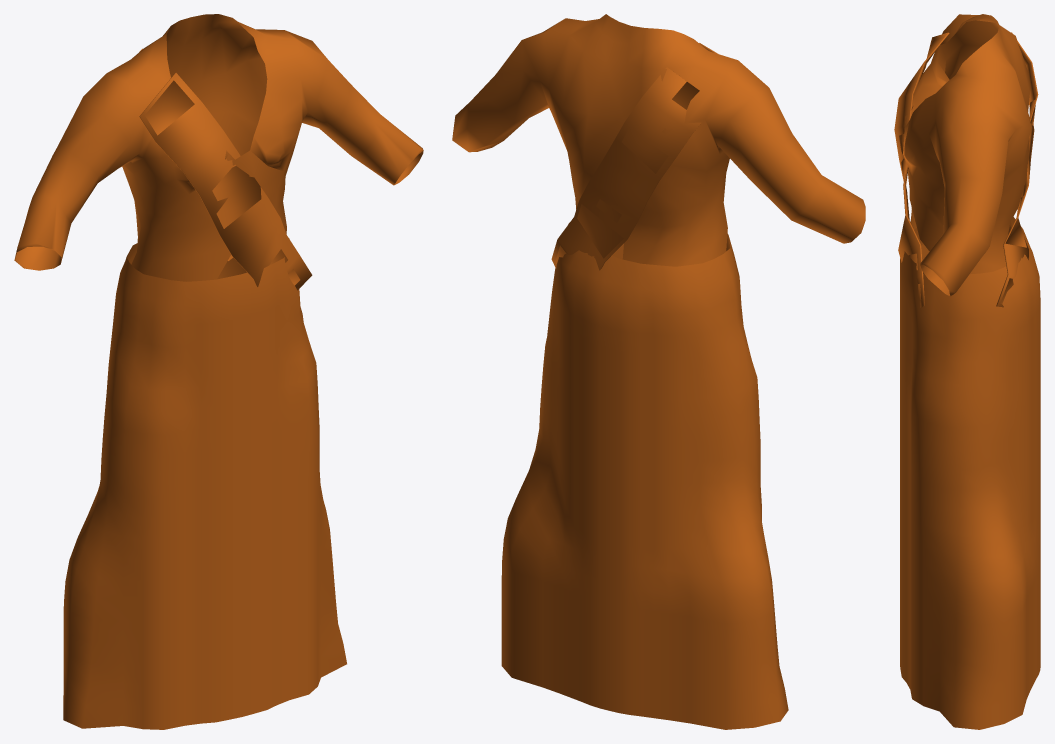
The model's file is monk_robe.glb.
3 views of the same model, side by side, from view 1: azimuth 30°, elevation 25°; view 2: azimuth 150°, elevation 25°; view 3: azimuth 270°, elevation 25° (orthographic). The views are drawn at different scales.
Parts seen in each view (by area): view 1: monk_robe; view 2: monk_robe; view 3: monk_robe.
Part boxes in pixels (x1,y1,x2,y2): monk_robe: (14, 14, 423, 729); monk_robe: (452, 14, 865, 729); monk_robe: (894, 14, 1040, 729).
Bounding box in the file's own units: 0.9098 × 1.42 × 0.294.
